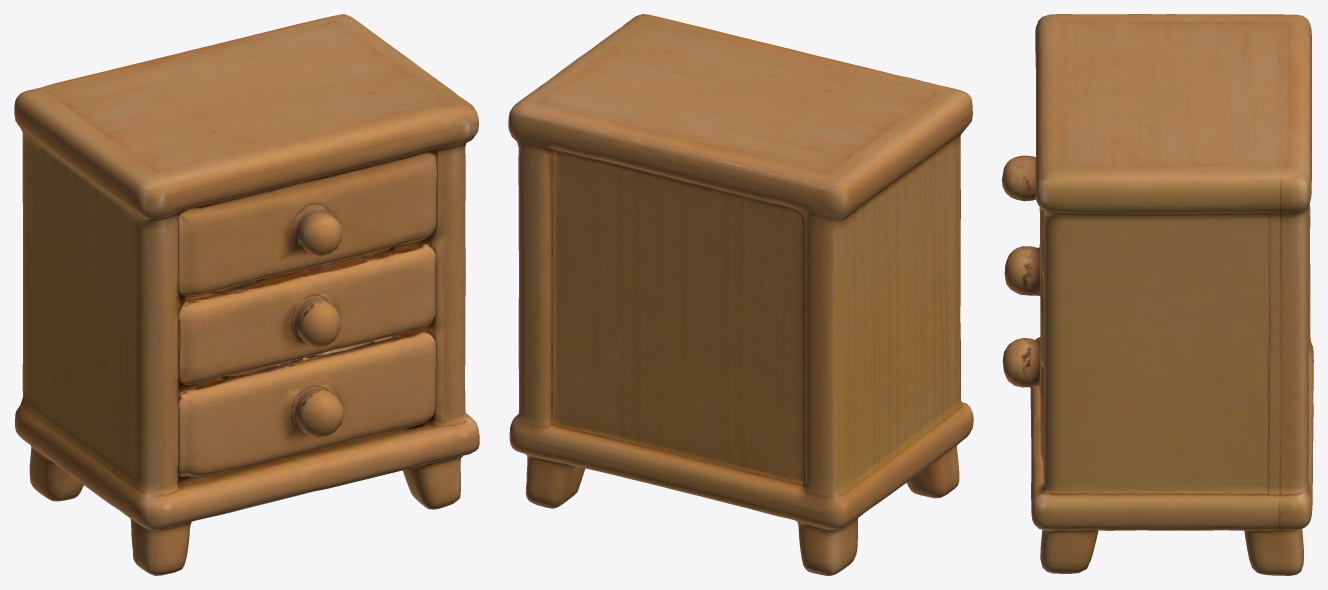
Rendered from Wooden__Dresser.glb.
3 renders of one model, left to right at view 1: azimuth 30°, elevation 25°; view 2: azimuth 150°, elevation 25°; view 3: azimuth 270°, elevation 25°, orthographic. The views are drawn at different scales.
Visible parts, largest first — view 1: Mesh_0; view 2: Mesh_0; view 3: Mesh_0.
Part boxes in pixels (left/top/right/bottom): Mesh_0: left=14, top=14, right=479, bottom=575; Mesh_0: left=508, top=14, right=973, bottom=575; Mesh_0: left=1002, top=14, right=1313, bottom=575.
Bounding box in the file's own units: 8.86 × 10 × 6.9.
Materials: 1 (1 with a texture image).
